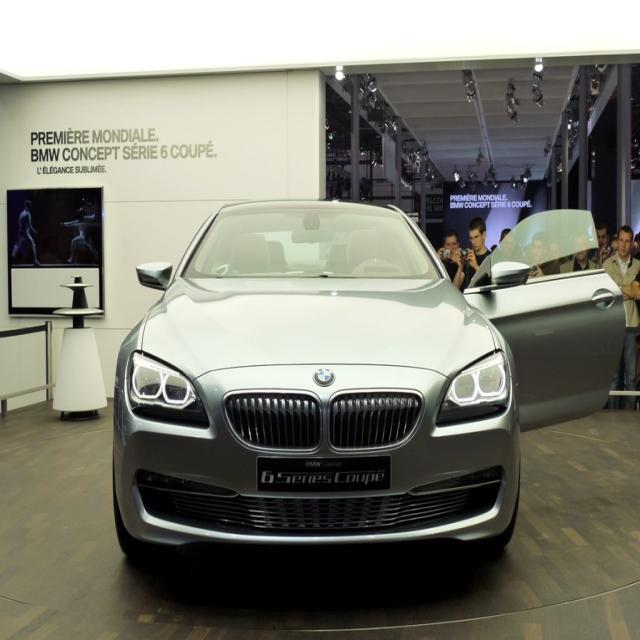car: (104, 193, 525, 577)
